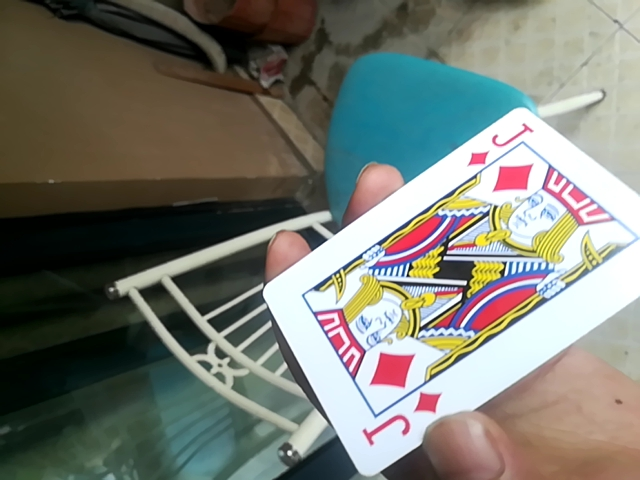fk j: (244, 105, 640, 480)
